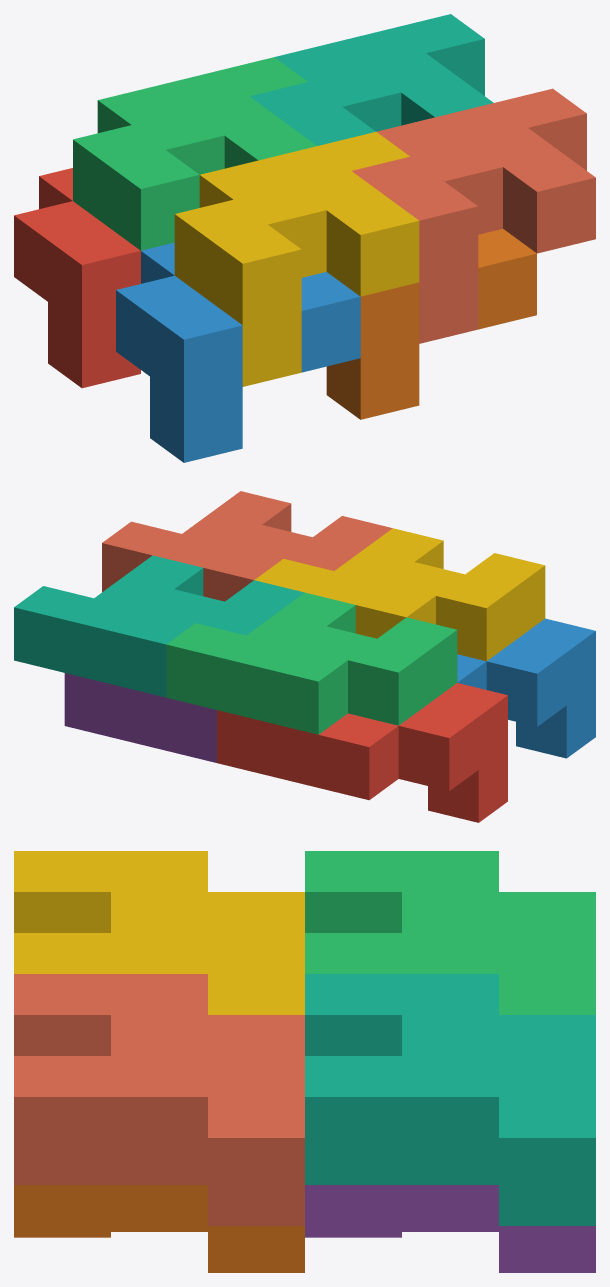
File: tiling.obj
3 renders of one model, top to bottom at view 1: azimuth 30°, elevation 25°; view 2: azimuth 150°, elevation 25°; view 3: azimuth 270°, elevation 25°, orthographic. The views are drawn at different scales.
Parts seen in each view (by area): view 1: copy_1_domain_4, copy_1_domain_8, copy_1_domain_3, copy_1_domain_2, copy_1_domain_7, copy_1_domain_1, copy_1_domain_6; view 2: copy_1_domain_3, copy_1_domain_1, copy_1_domain_7, copy_1_domain_4, copy_1_domain_8, copy_1_domain_2, copy_1_domain_5; view 3: copy_1_domain_7, copy_1_domain_8, copy_1_domain_3, copy_1_domain_4, copy_1_domain_5, copy_1_domain_6.
Boxes of the visible parts, <box> form: copy_1_domain_4: <box>174,132,419,386</box>; copy_1_domain_8: <box>352,88,595,343</box>; copy_1_domain_3: <box>73,57,316,250</box>; copy_1_domain_2: <box>116,242,360,462</box>; copy_1_domain_7: <box>250,14,493,145</box>; copy_1_domain_1: <box>14,168,140,388</box>; copy_1_domain_6: <box>326,229,536,419</box>; copy_1_domain_3: <box>166,592,457,734</box>; copy_1_domain_1: <box>217,683,507,822</box>; copy_1_domain_7: <box>14,555,304,697</box>; copy_1_domain_4: <box>254,528,545,661</box>; copy_1_domain_8: <box>102,491,392,601</box>; copy_1_domain_2: <box>457,618,595,758</box>; copy_1_domain_5: <box>64,673,216,762</box>; copy_1_domain_7: <box>305,974,595,1225</box>; copy_1_domain_8: <box>14,974,304,1225</box>; copy_1_domain_3: <box>305,851,595,1014</box>; copy_1_domain_4: <box>14,851,304,1014</box>; copy_1_domain_5: <box>305,1185,595,1272</box>; copy_1_domain_6: <box>14,1185,304,1272</box>.
Size of the model in its own units: 8 by 3 by 6.
